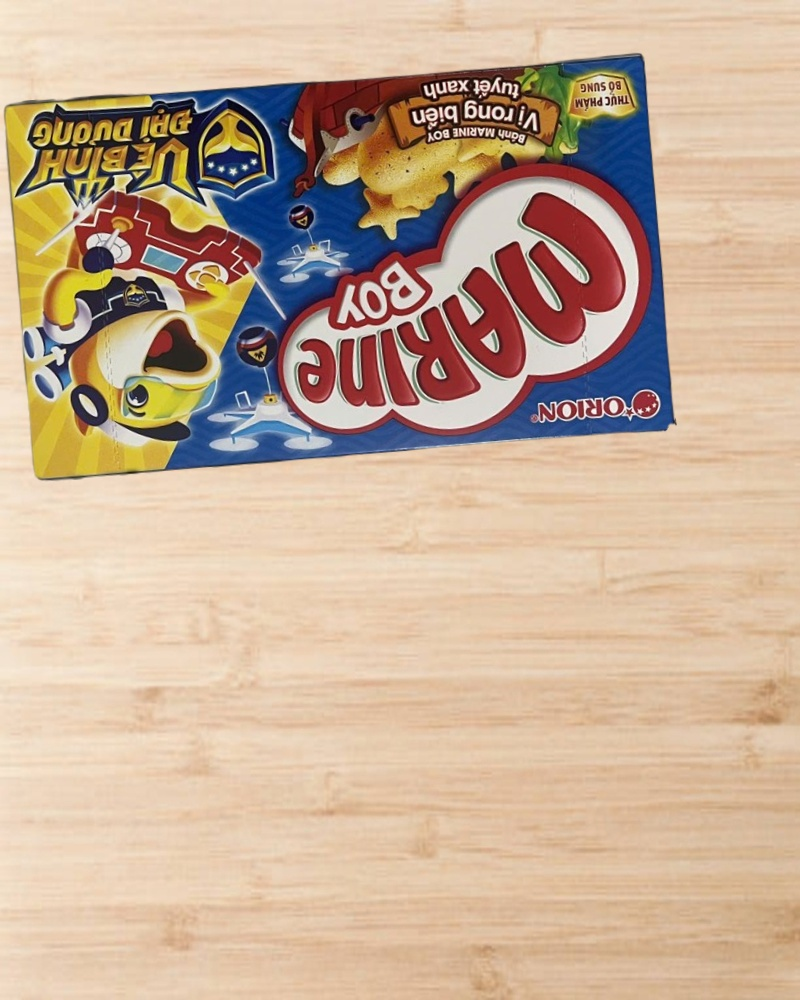Marine: (1, 49, 677, 486)
